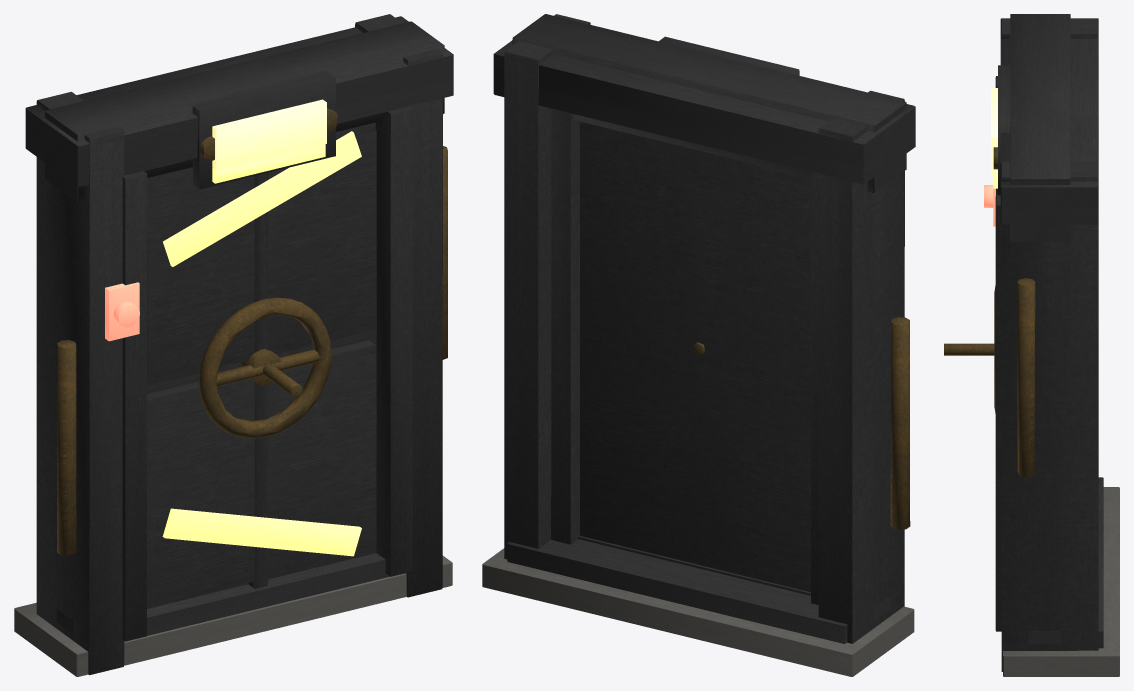
Rendered from hp_room_l08_p10.glb.
3 views of the same model, side by side, from view 1: azimuth 30°, elevation 25°; view 2: azimuth 150°, elevation 25°; view 3: azimuth 270°, elevation 25° (orthographic). The views are drawn at different scales.
Parts seen in each view (by area): view 1: room_l08_p10; view 2: room_l08_p10; view 3: room_l08_p10.
Boxes of the visible parts, x1,y1,x2,y2 form: room_l08_p10: [14, 14, 453, 676]; room_l08_p10: [482, 14, 915, 676]; room_l08_p10: [944, 14, 1119, 676].
Size of the model in its own units: 1.76 by 2.33 by 0.747.
8 materials, 6 textured.
